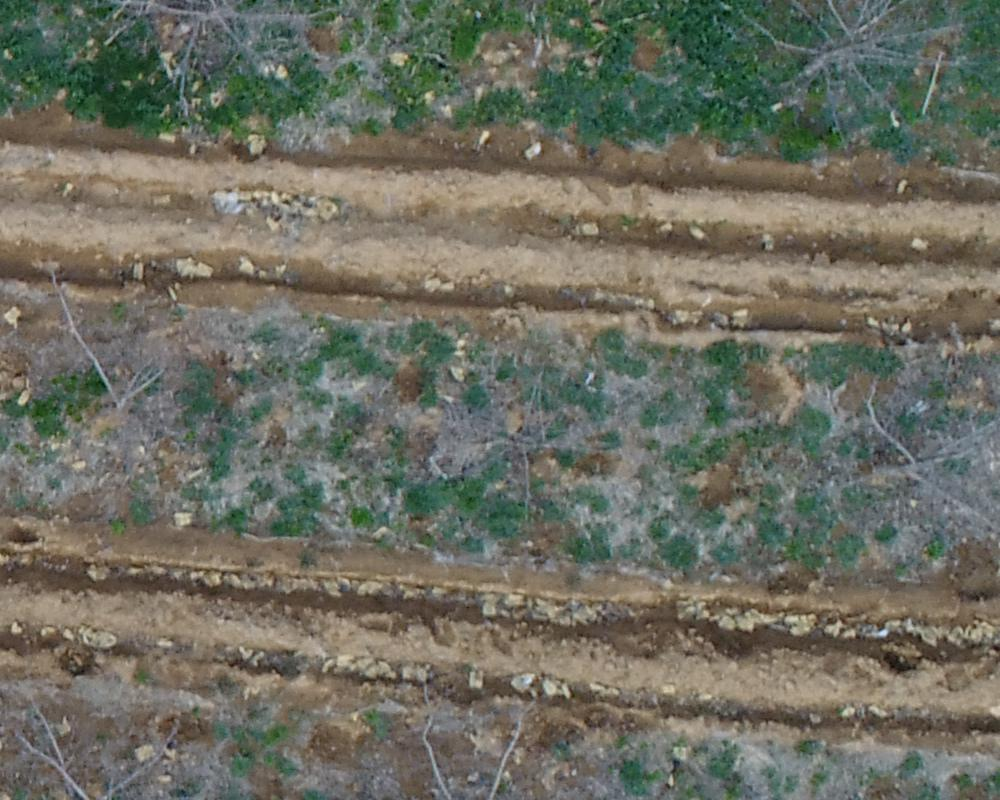apple: (713, 10, 990, 142), (825, 357, 990, 558), (84, 10, 337, 139), (26, 274, 192, 460), (377, 693, 664, 790), (419, 357, 602, 507)
